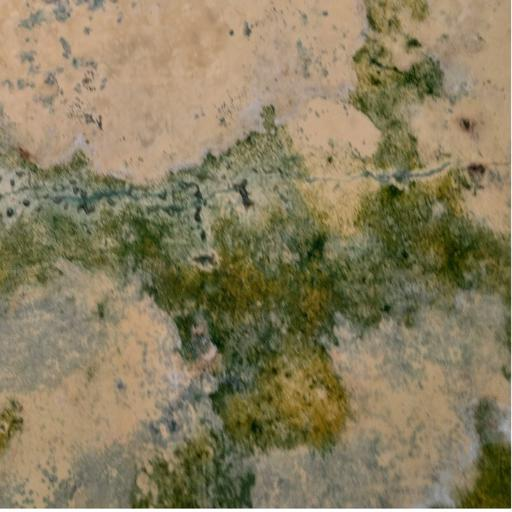algae: (8, 32, 512, 512)
